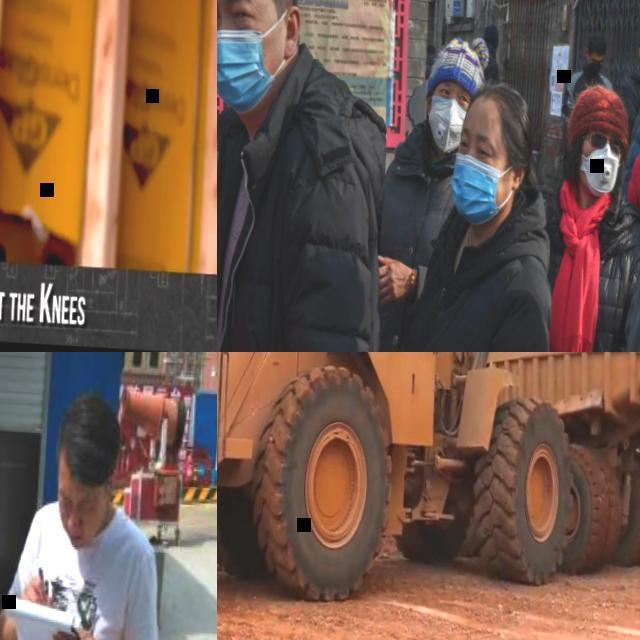machinery: (217, 352, 640, 621), (471, 352, 640, 589)
mask: (217, 25, 276, 117), (448, 152, 502, 228), (425, 94, 466, 154), (582, 144, 622, 198), (586, 60, 602, 77)
no_helmet: (55, 390, 122, 486), (462, 82, 534, 146), (566, 84, 630, 140), (427, 34, 487, 90), (588, 30, 608, 53), (483, 22, 500, 40), (425, 43, 436, 56)
no_mask: (56, 502, 98, 536)
no_vest: (217, 81, 370, 352), (519, 185, 632, 352), (393, 234, 540, 352), (9, 501, 130, 640), (375, 145, 456, 352), (626, 81, 640, 127), (487, 57, 498, 79), (424, 56, 435, 76)
person: (217, 0, 402, 352), (0, 382, 172, 640), (365, 32, 489, 352), (121, 0, 217, 295), (478, 25, 503, 86), (425, 38, 436, 76)
